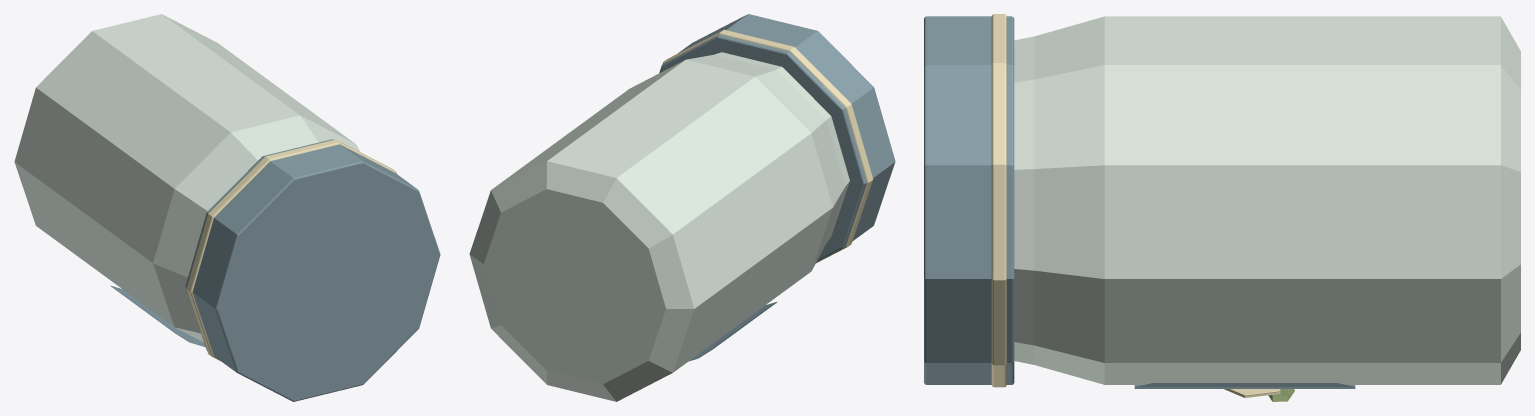
The model's file is mayonnaise.glb.
3 renders of one model, left to right at view 1: azimuth 30°, elevation 25°; view 2: azimuth 150°, elevation 25°; view 3: azimuth 270°, elevation 25°, orthographic. The views are drawn at different scales.
Visible parts, largest first — view 1: mayonnaise; view 2: mayonnaise; view 3: mayonnaise.
Part boxes in pixels (bbox=[...]): mayonnaise: bbox=[14, 14, 440, 401]; mayonnaise: bbox=[469, 14, 895, 401]; mayonnaise: bbox=[924, 14, 1520, 401].
Bounding box in the file's own units: 0.075 × 0.0755 × 0.119.
